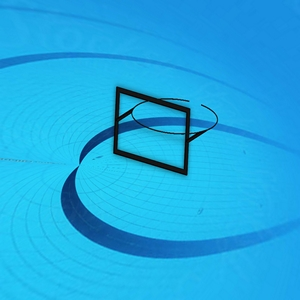circle: (112, 84, 220, 177)
